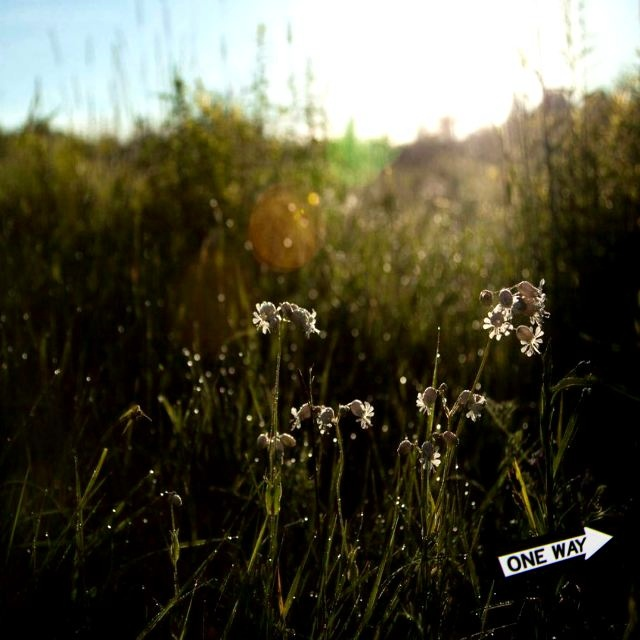ONE_WAY_ right: (483, 516, 621, 589)
